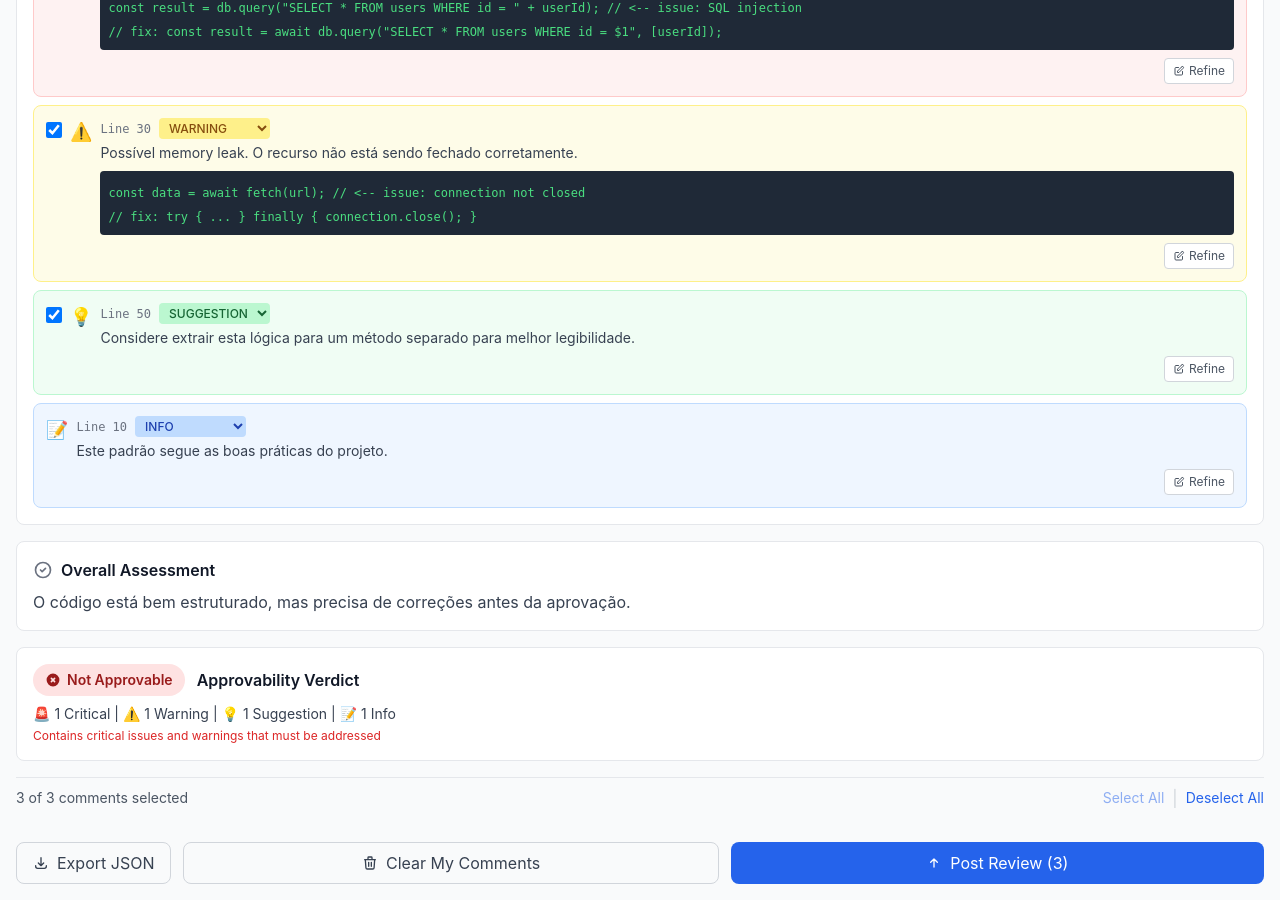
Test: ReviewDisplayView › Edge Cases › should show error when posting without MR info
This screenshot has width=1280, height=900.
(page scrolled)
Click the button "Post Review (3)": click(997, 863) x1=731 y1=842 x2=1264 y2=884
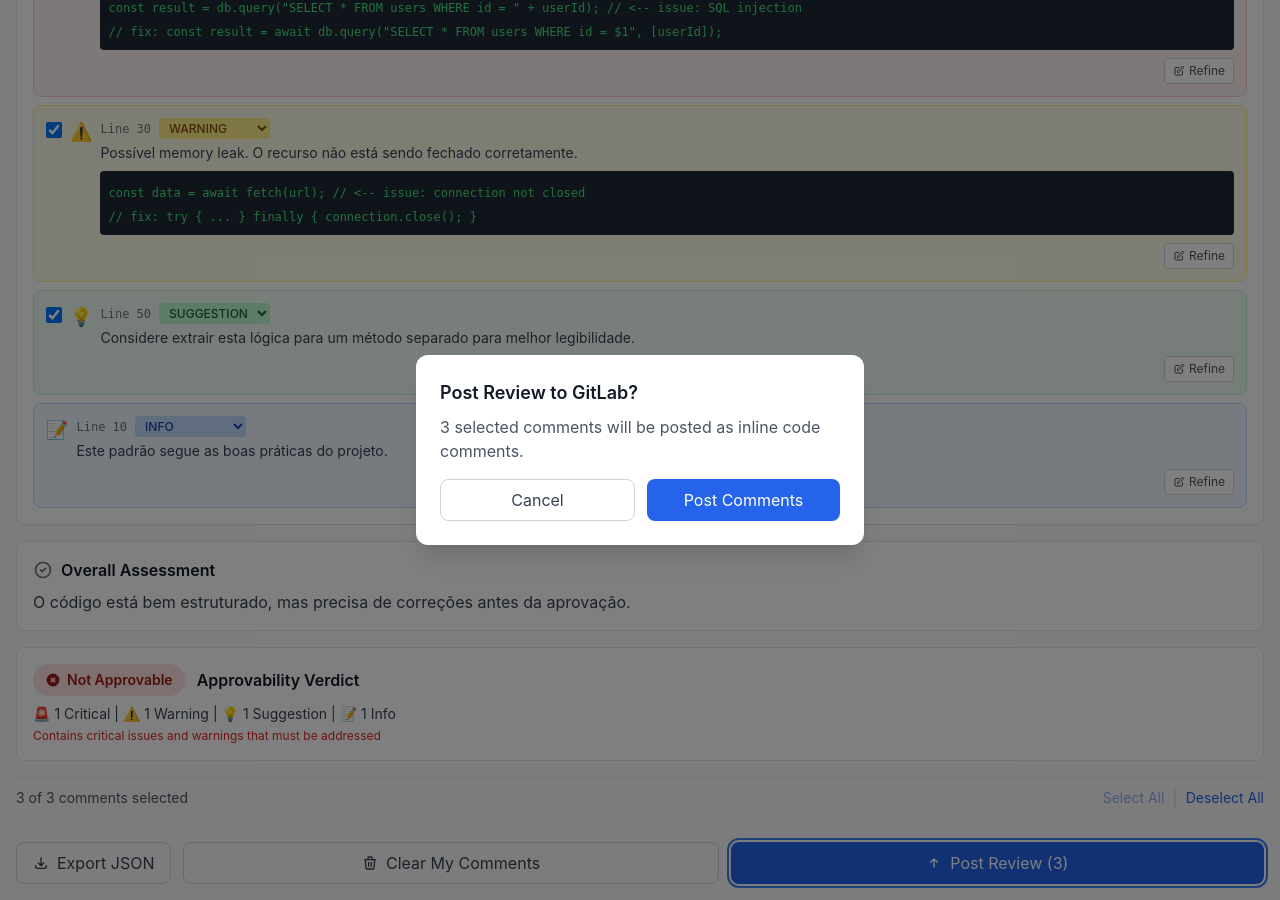
Click the button "Post Comments": click(744, 500) x1=647 y1=479 x2=840 y2=521
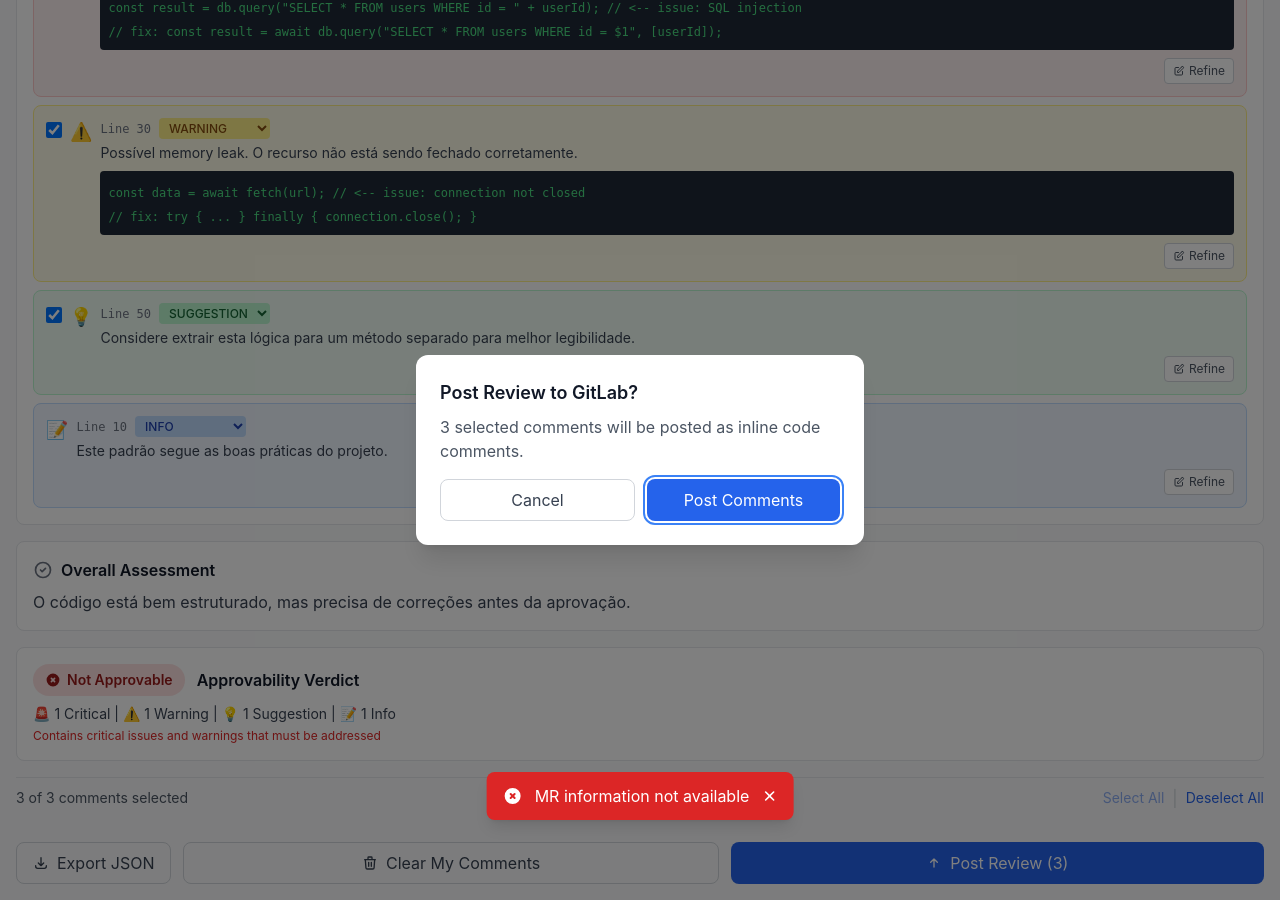
Expected: the text "MR information not available" is shown, x1=535 y1=784 x2=749 y2=808
